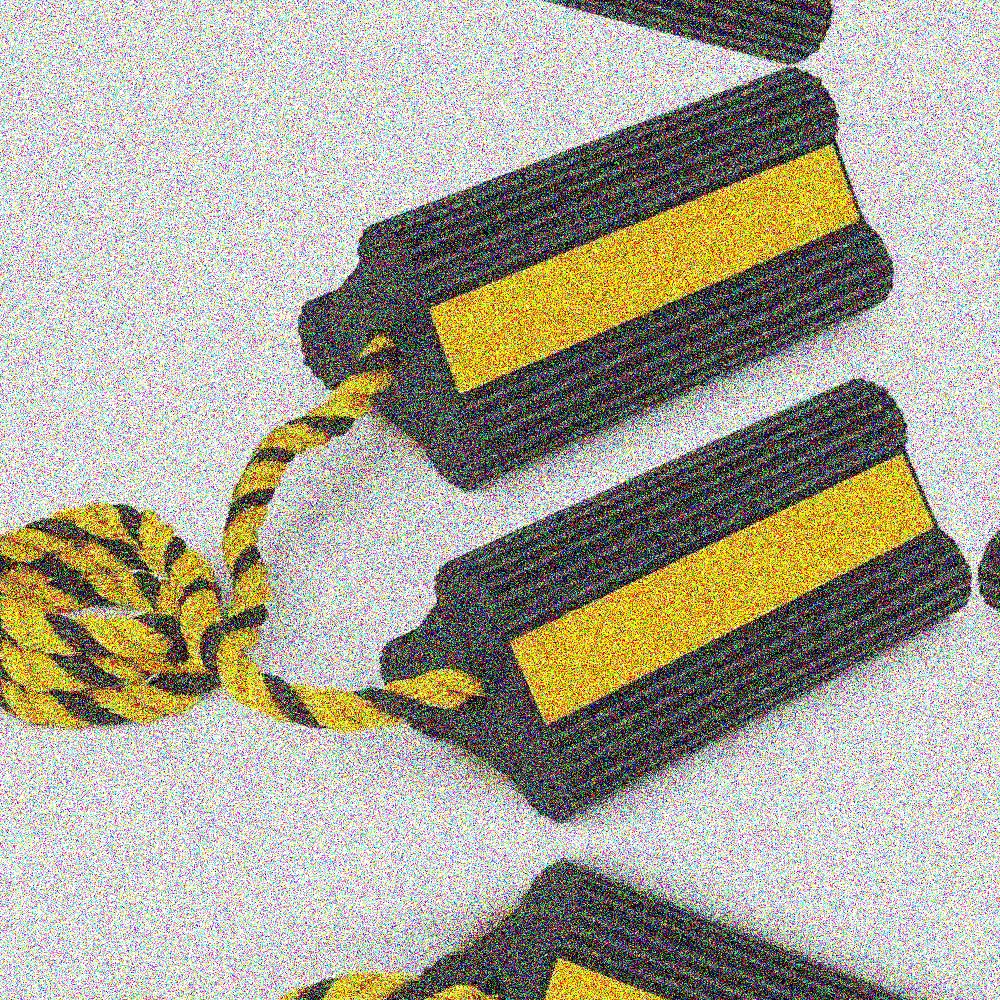chock: (363, 368, 987, 834), (279, 64, 906, 498), (388, 836, 1000, 1000)
